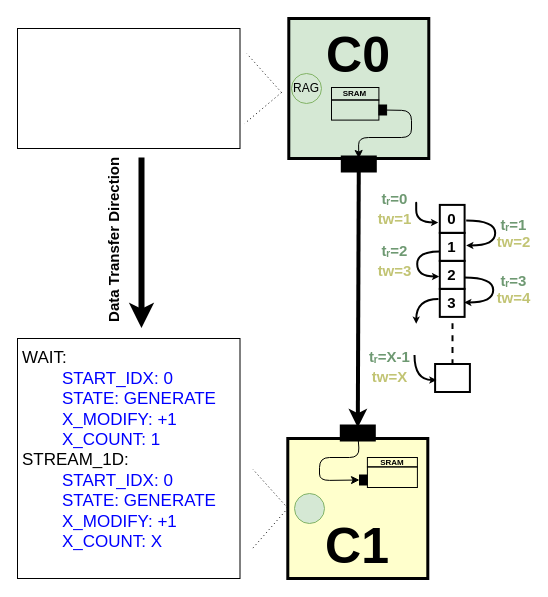
Some shapes in this 548 by 597 pixel diagram are drawn without their labels. Here are the shapes that lost their labels. From the top down, the centre of each, then its label:
At point (128, 88): "STREAM_1D: START_IDX: 0 STATE: GENERATE X_MODIFY: +1 X_COUNT: X".
At point (354, 109): "dout".
At point (452, 377): "X-1".
At point (391, 477): "dina".
At point (309, 508): "WAG".
